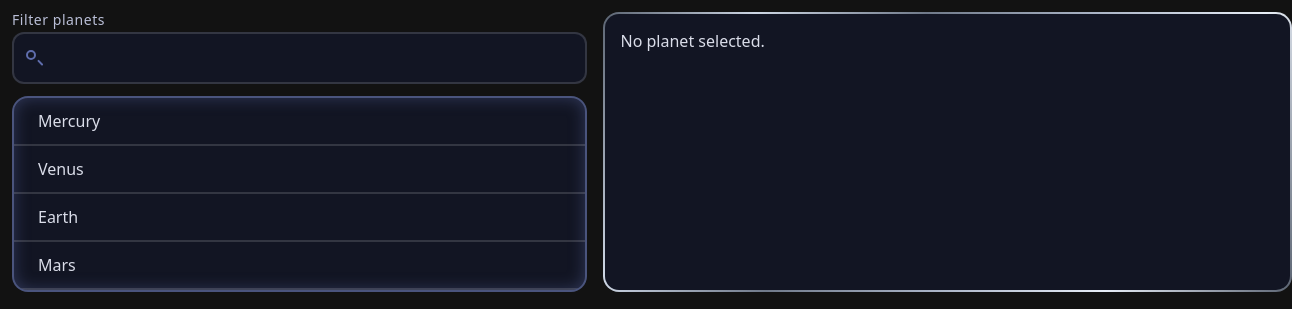
Scenario: SearchableList › reports the selected key and reflects it in the detail region
Check: the element named "Selection detail" reads "No planet selected.", box [620, 30, 765, 52]
Click the option "Mars" at (57, 265), box [14, 242, 584, 290]
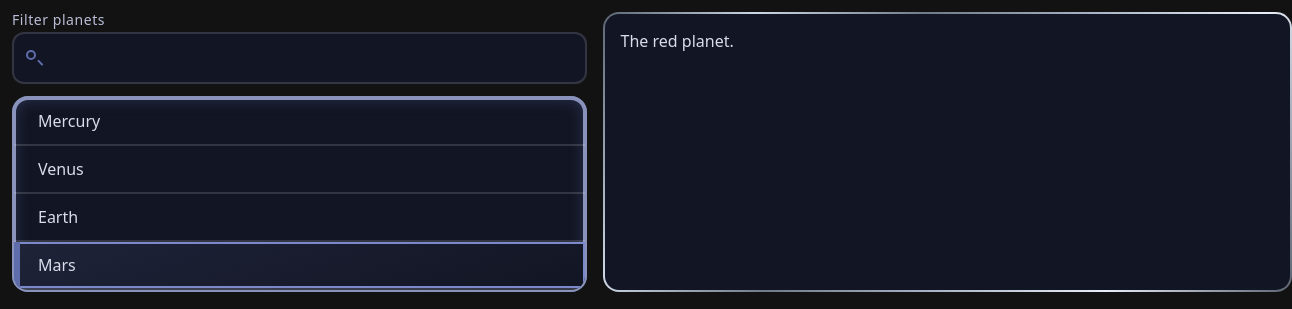
Check: the element named "Selection detail" reads "The red planet.", box [620, 30, 734, 52]
